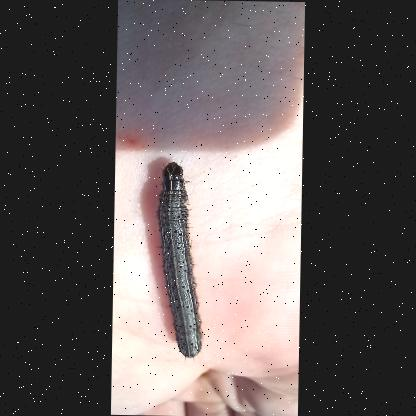Fall Armyworm Larvae: (148, 157, 212, 364)
